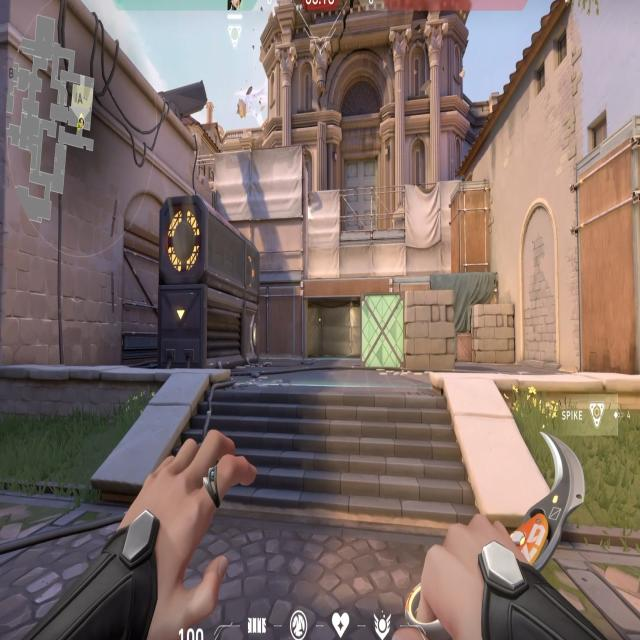A_Heaven_Box: (450, 175, 493, 279)
A_Heaven_Wall: (196, 143, 310, 284)
A_Hell: (294, 272, 395, 369)
A_Site_Box: (360, 289, 460, 377)
